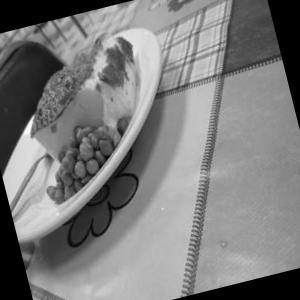casserole: (0, 17, 166, 207)
